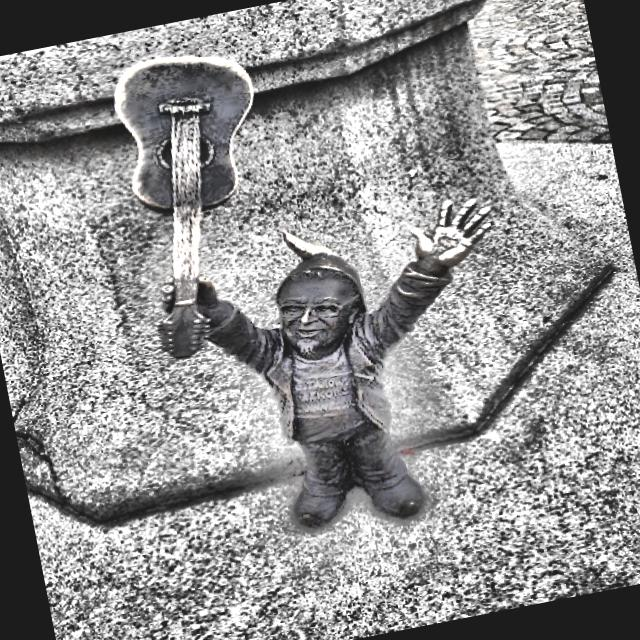Leszko_z_Wroclawia: (113, 57, 491, 532)
